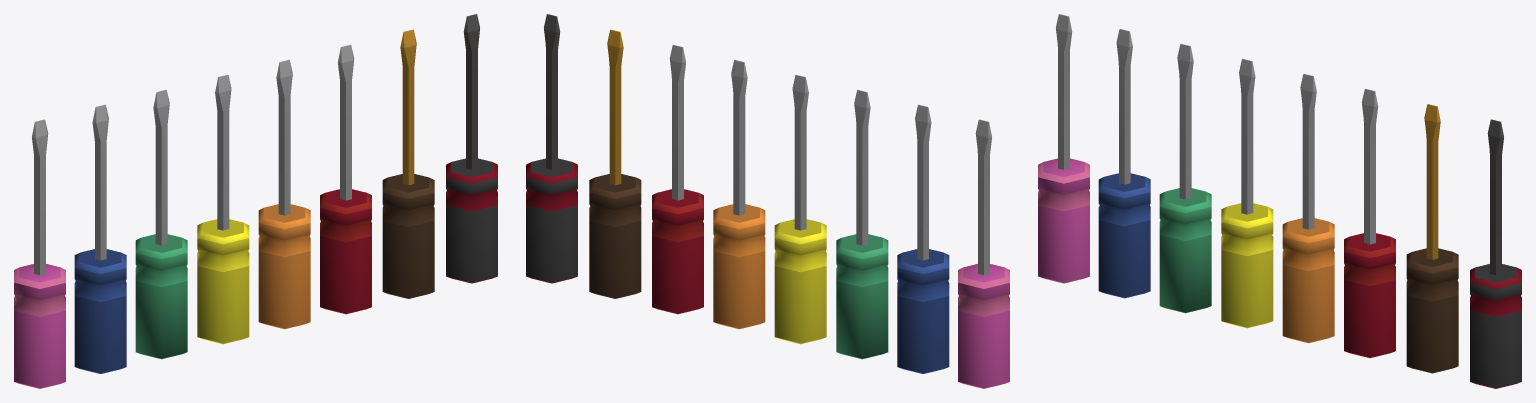
The model's file is Screwdrivers.fbx.
3 views of the same model, side by side, from view 1: azimuth 30°, elevation 25°; view 2: azimuth 150°, elevation 25°; view 3: azimuth 330°, elevation 25° (orthographic).
Parts seen in each view (by area): view 1: ScrewdriverYellow, ScrewdriverOrange, ScrewdriverBrass, ScrewdriverGreen, ScrewdriverBlue, ScrewdriverRed, ScrewdriverSyndicate, ScrewdriverPink; view 2: ScrewdriverYellow, ScrewdriverBrass, ScrewdriverOrange, ScrewdriverGreen, ScrewdriverBlue, ScrewdriverRed, ScrewdriverSyndicate, ScrewdriverPink; view 3: ScrewdriverGreen, ScrewdriverOrange, ScrewdriverBrass, ScrewdriverYellow, ScrewdriverBlue, ScrewdriverPink, ScrewdriverSyndicate, ScrewdriverRed.
Boxes of the visible parts, x1,y1,x2,y2 form: ScrewdriverYellow: (197,74,249,344); ScrewdriverOrange: (258,59,310,329); ScrewdriverBrass: (382,29,434,298); ScrewdriverGreen: (135,89,187,359); ScrewdriverBlue: (74,104,126,373); ScrewdriverRed: (320,44,371,314); ScrewdriverSyndicate: (446,14,497,283); ScrewdriverPink: (14,119,65,388); ScrewdriverYellow: (774,74,826,344); ScrewdriverBrass: (589,29,641,298); ScrewdriverOrange: (713,59,765,329); ScrewdriverGreen: (836,89,888,359); ScrewdriverBlue: (897,104,949,373); ScrewdriverRed: (652,44,703,314); ScrewdriverSyndicate: (526,14,577,283); ScrewdriverPink: (958,119,1009,388); ScrewdriverGreen: (1159,43,1211,313); ScrewdriverOrange: (1282,73,1334,343); ScrewdriverBrass: (1406,104,1458,373); ScrewdriverYellow: (1221,58,1273,328); ScrewdriverBlue: (1098,29,1150,298); ScrewdriverPink: (1038,14,1089,283); ScrewdriverSyndicate: (1470,119,1521,388); ScrewdriverRed: (1344,88,1395,357).
Size of the model in its own units: 0.7952 by 0.4053 by 0.074.
